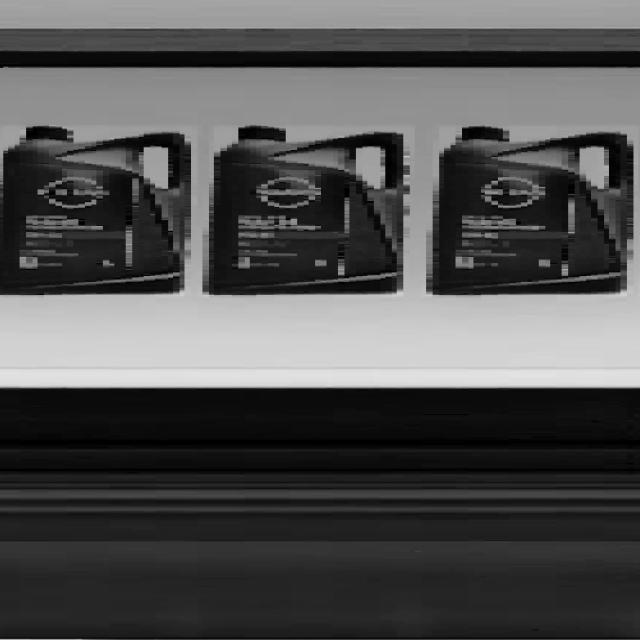motor_oil: (198, 118, 410, 303), (435, 126, 640, 301), (0, 124, 192, 299)
